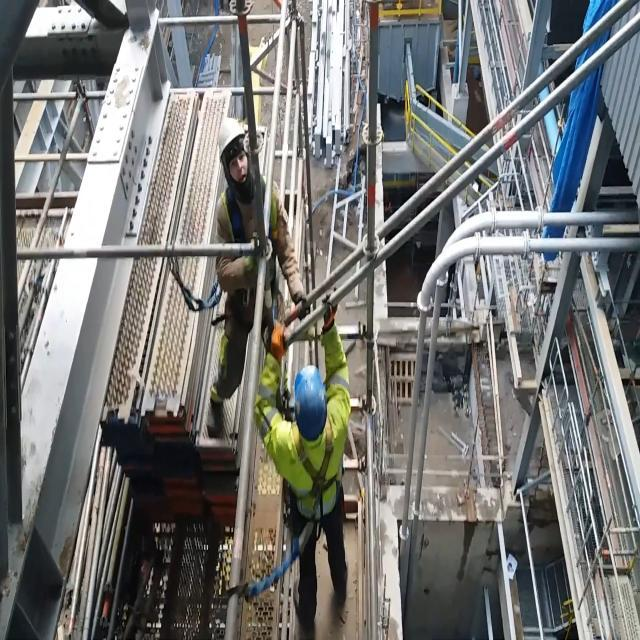belt: (280, 407, 344, 547), (224, 176, 279, 312)
